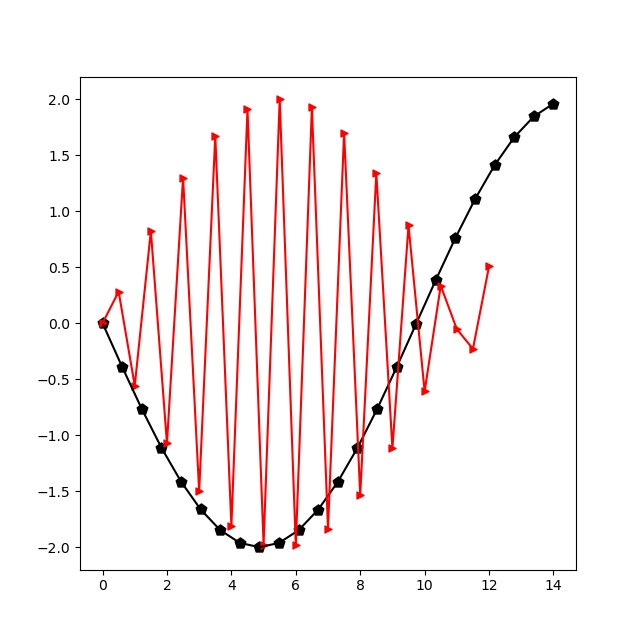pentagon: (97, 317, 110, 330), (116, 361, 129, 374), (136, 403, 149, 416), (155, 442, 168, 455), (175, 476, 188, 489), (195, 503, 208, 516), (214, 524, 227, 537), (234, 537, 247, 550), (253, 541, 266, 554), (273, 537, 286, 550), (293, 524, 306, 537), (312, 504, 325, 517), (332, 476, 345, 489), (351, 442, 364, 455), (371, 403, 384, 416), (391, 361, 404, 374), (410, 318, 423, 331), (430, 274, 443, 287), (449, 232, 462, 245), (469, 193, 482, 206), (489, 159, 502, 172), (508, 131, 521, 144), (528, 110, 541, 123), (547, 98, 560, 111)
triangle_right: (98, 319, 108, 329), (114, 287, 124, 297), (130, 381, 140, 391), (146, 226, 156, 236), (162, 439, 172, 449), (179, 173, 189, 183), (195, 487, 205, 497), (211, 131, 221, 141), (227, 522, 237, 532), (243, 104, 253, 114), (259, 540, 269, 550), (275, 95, 285, 105), (291, 541, 301, 551), (307, 103, 317, 113), (324, 524, 334, 534), (340, 128, 350, 138), (356, 491, 366, 501), (372, 169, 382, 179), (388, 444, 398, 454), (404, 221, 414, 231), (420, 387, 430, 397), (436, 281, 446, 291), (452, 325, 462, 335), (468, 344, 478, 354), (485, 262, 495, 272)
